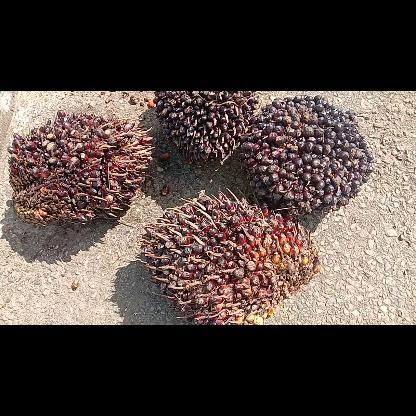TBS mentah: (137, 188, 320, 324), (7, 110, 153, 226), (240, 96, 374, 216), (152, 91, 256, 164)
